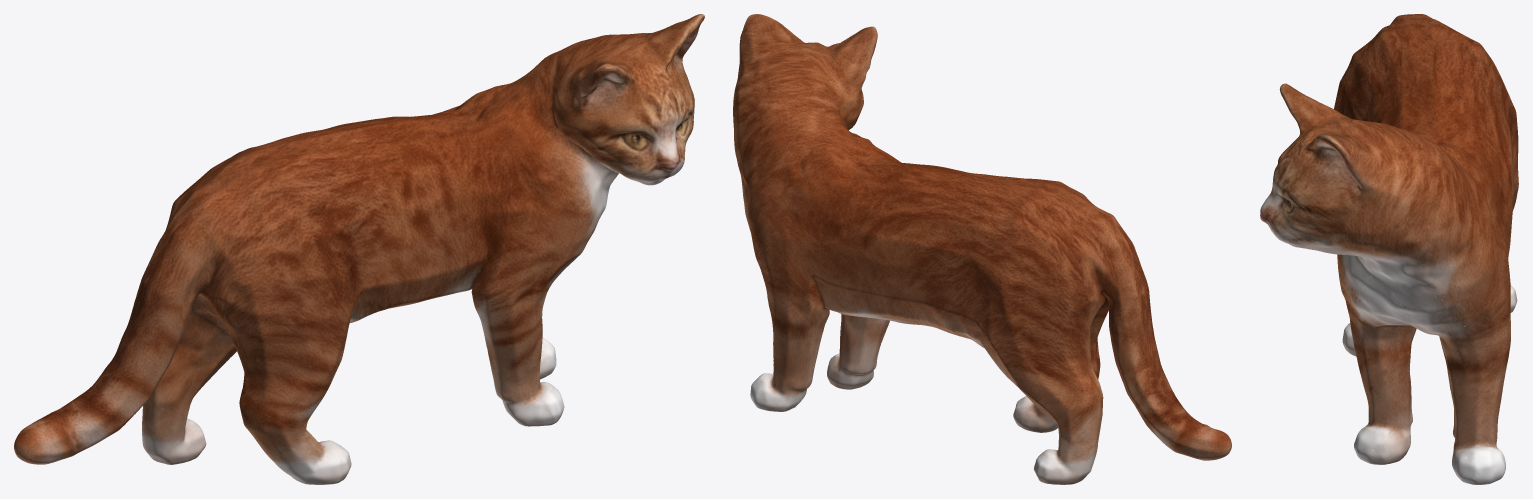
The model's file is gato-3d.glb.
The picture shows the model from 3 angles, left to right: view 1: azimuth 30°, elevation 25°; view 2: azimuth 150°, elevation 25°; view 3: azimuth 270°, elevation 25°; orthographic projection. The views are drawn at different scales.
Visible parts, largest first — view 1: world; view 2: world; view 3: world.
Part boxes in pixels (x1,y1,x2,y2): world: (14, 14, 704, 484); world: (733, 14, 1231, 484); world: (1260, 14, 1518, 484).
Bounding box in the file's own units: 1 × 0.5858 × 0.3559.
Materials: 1 (1 with a texture image).
